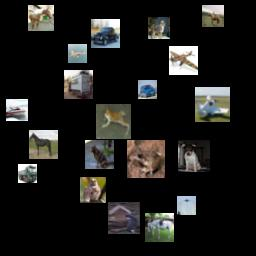airplane: (195, 87, 230, 122), (169, 46, 198, 75), (68, 44, 87, 63), (177, 196, 196, 215)
automobile: (91, 19, 120, 48), (138, 80, 157, 99)
bird: (80, 177, 106, 203)
cat: (108, 202, 140, 234), (85, 140, 114, 169)
dog: (178, 140, 210, 172), (148, 17, 170, 39)
frog: (127, 140, 165, 178), (96, 104, 131, 139)
ship: (6, 99, 28, 121)
truck: (64, 70, 93, 99), (18, 164, 37, 183)
